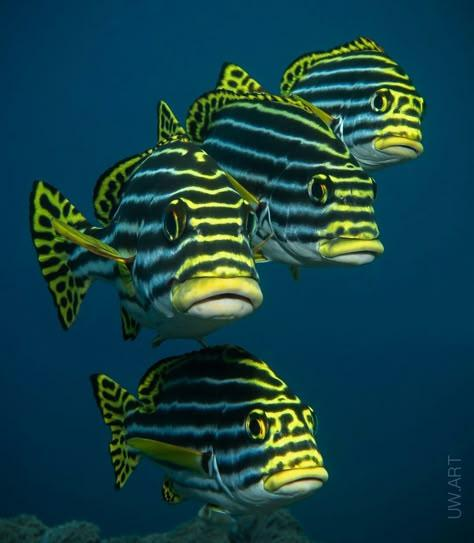fish: (31, 145, 265, 350), (157, 93, 385, 281), (89, 348, 328, 510), (216, 40, 425, 168)
